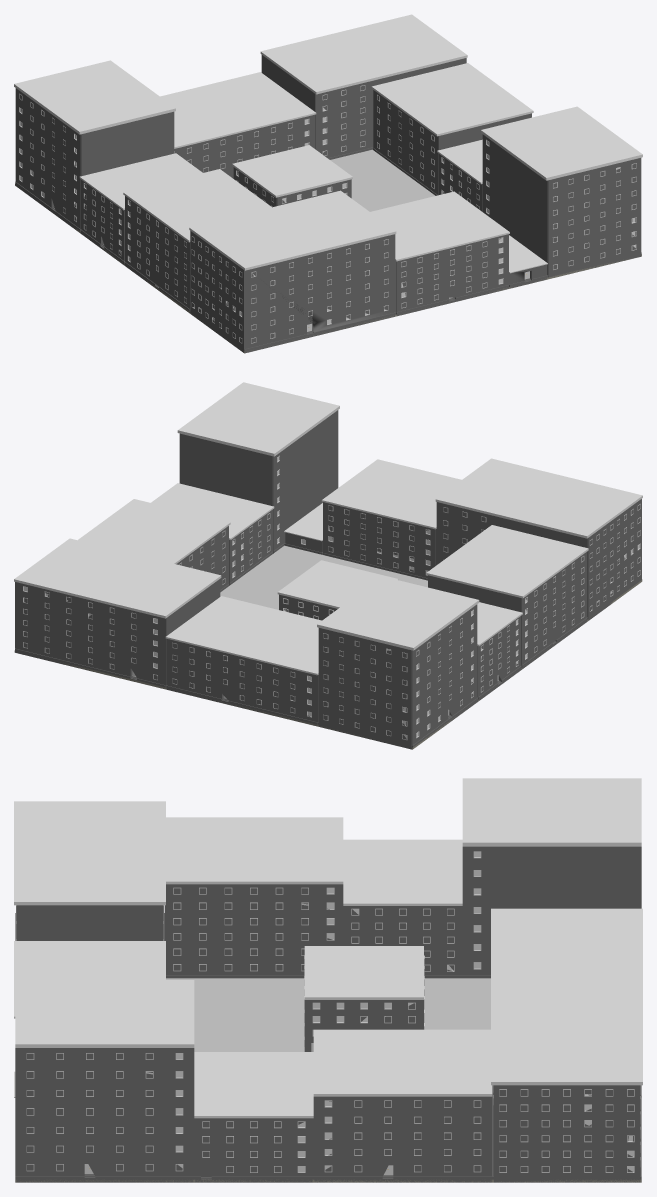
Rendered from Block04.fbx.
3 views of the same model, one above another, from view 1: azimuth 30°, elevation 25°; view 2: azimuth 150°, elevation 25°; view 3: azimuth 270°, elevation 25° (orthographic). The views are drawn at different scales.
Visible parts, largest first — view 1: BC40_F06.003, BC30_F07.003, BC30_F07.005, BC40_F06.004, BR30_F05.001, BR30_F05.008, BR40_F04.005, BR30_F06.007, BR20_F05.007, BR20_F06.006, Courtyard.003, BR20_F04.006 (+2 smaller); view 2: BC30_F07.005, BC40_F06.004, BC30_F07.003, BC40_F06.003, BR40_F04.005, BR30_F06.007, BR30_F05.001, BR30_F05.008, BR20_F04.006, Courtyard.003, BR20_F06.006, BR20_F05.007 (+2 smaller); view 3: BC30_F07.003, BC40_F06.004, BR30_F06.007, BR30_F05.008, BC30_F07.005, BC40_F06.003, BR20_F04.006, BR20_F05.007, Courtyard.003, BR40_F04.005, BR20_F06.006, BR30_F05.001 (+1 smaller).
Boxes of the visible parts, x1,y1,x2,y2 form: BC40_F06.003: (189, 190, 396, 353); BC30_F07.003: (481, 106, 642, 277); BC30_F07.005: (14, 60, 175, 231); BC40_F06.004: (260, 14, 467, 159); BR30_F05.001: (370, 191, 509, 316); BR30_F05.008: (371, 63, 533, 195); BR40_F04.005: (160, 72, 316, 178); BR30_F06.007: (123, 169, 271, 311); BR20_F05.007: (79, 153, 202, 264); BR20_F06.006: (232, 145, 352, 207); Courtyard.003: (330, 149, 435, 211); BR20_F04.006: (437, 139, 482, 211); BC30_F07.005: (317, 576, 479, 749); BC40_F06.004: (14, 538, 221, 687); BC30_F07.003: (177, 382, 339, 553); BC40_F06.003: (435, 458, 642, 620); BR40_F04.005: (165, 596, 321, 725); BR30_F06.007: (426, 525, 588, 668); BR30_F05.001: (321, 459, 461, 580); BR30_F05.008: (78, 499, 230, 592); BR20_F04.006: (151, 483, 274, 585); Courtyard.003: (220, 545, 427, 609); BR20_F06.006: (277, 560, 398, 620); BR20_F05.007: (477, 602, 522, 700); BC30_F07.003: (15, 980, 194, 1182); BC40_F06.004: (491, 981, 642, 1182); BR30_F06.007: (164, 817, 343, 978); BR30_F05.008: (313, 1029, 492, 1182); BC30_F07.005: (462, 778, 641, 978); BC40_F06.003: (14, 801, 165, 940); BR20_F04.006: (194, 1052, 313, 1182); BR20_F05.007: (343, 839, 462, 978); Courtyard.003: (166, 978, 490, 1051); BR40_F04.005: (491, 908, 642, 981); BR20_F06.006: (304, 946, 424, 1051); BR30_F05.001: (14, 941, 165, 1018).
Size of the model in its own units: 10550 by 2570 by 10550.
